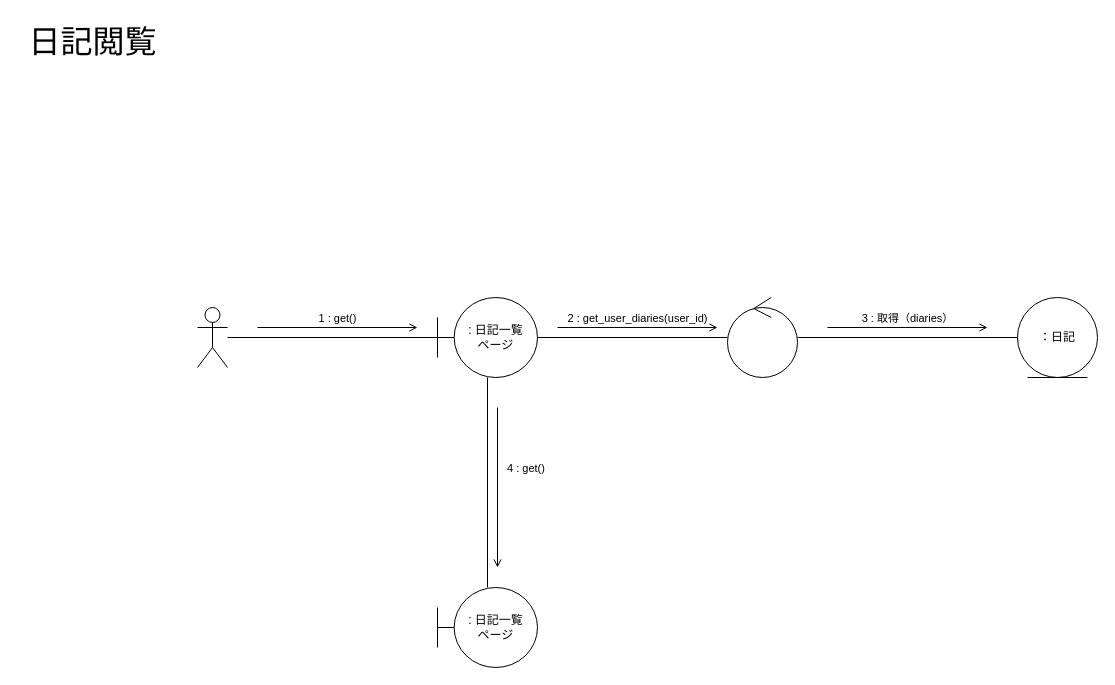
Image size: 1115x685. Some labels were removed from this diagram. The centre of each missing label's shape, as x and y in pixels:
：ユーザ: the point at 212,337
：日記記録管理: the point at 762,337
